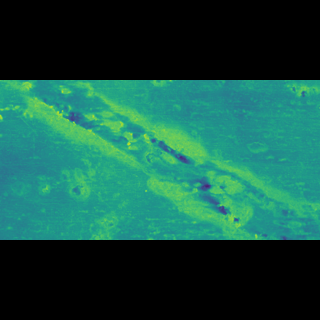Loch: (13, 117, 318, 200)
